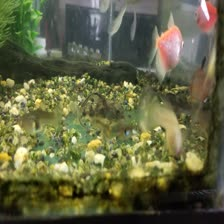Guppy: (138, 91, 185, 156), (10, 98, 64, 137), (96, 119, 137, 142)
Kiros: (75, 88, 128, 124)
Plano: (145, 16, 182, 82), (192, 0, 216, 32)
Transparente: (189, 53, 213, 105)
